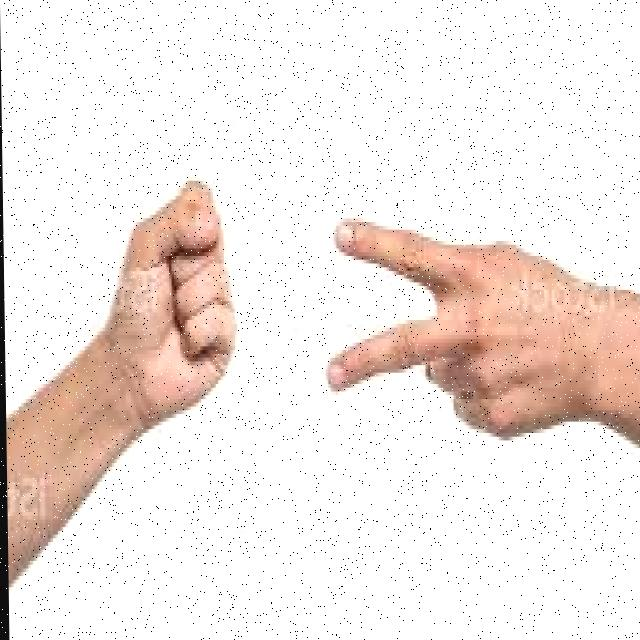rock: (57, 121, 261, 544)
scirssors: (309, 147, 606, 522)
